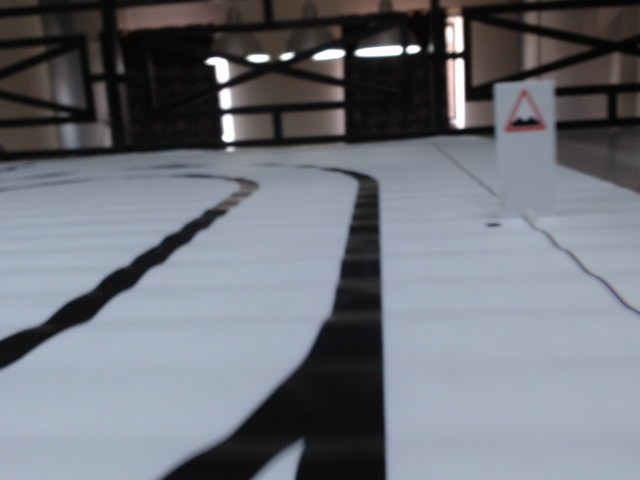Nerov: (498, 88, 548, 133)
